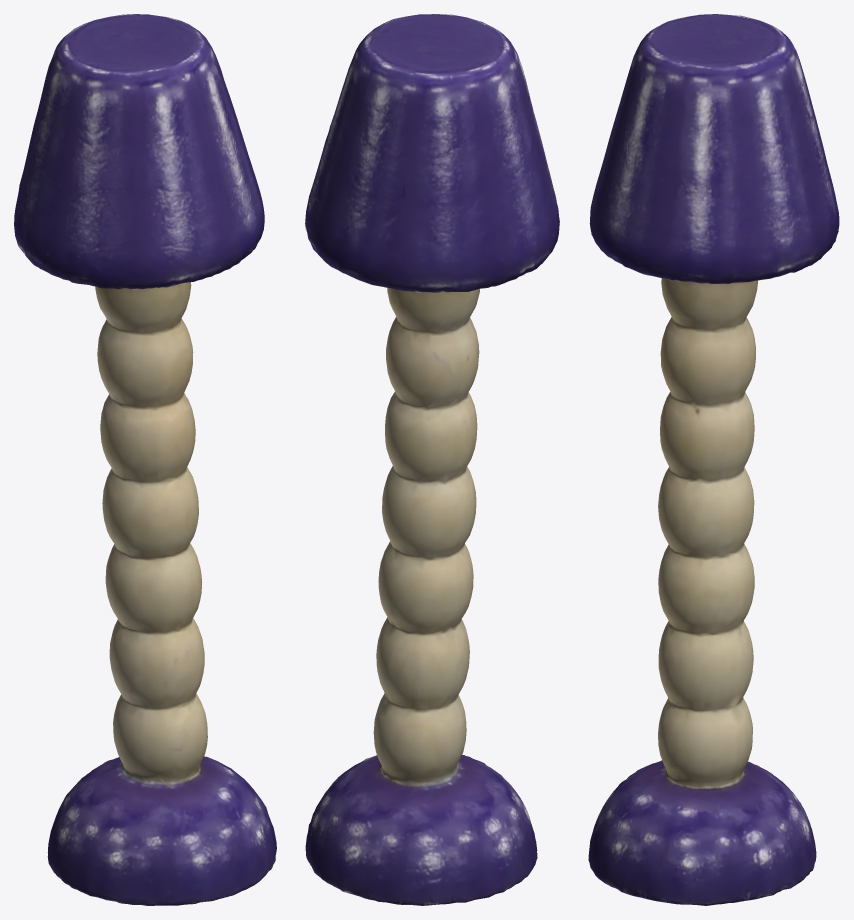
Rendered from 3D_Dollhouse_Lamp.glb.
3 renders of one model, left to right at view 1: azimuth 30°, elevation 25°; view 2: azimuth 150°, elevation 25°; view 3: azimuth 270°, elevation 25°, orthographic.
Parts seen in each view (by area): view 1: model.obj; view 2: model.obj; view 3: model.obj.
Part boxes in pixels (x1,y1,x2,y2): model.obj: [14, 14, 276, 905]; model.obj: [305, 14, 559, 905]; model.obj: [588, 14, 839, 905].
Size of the model in its own units: 0.2876 by 1 by 0.2794.
1 material, 1 textured.
